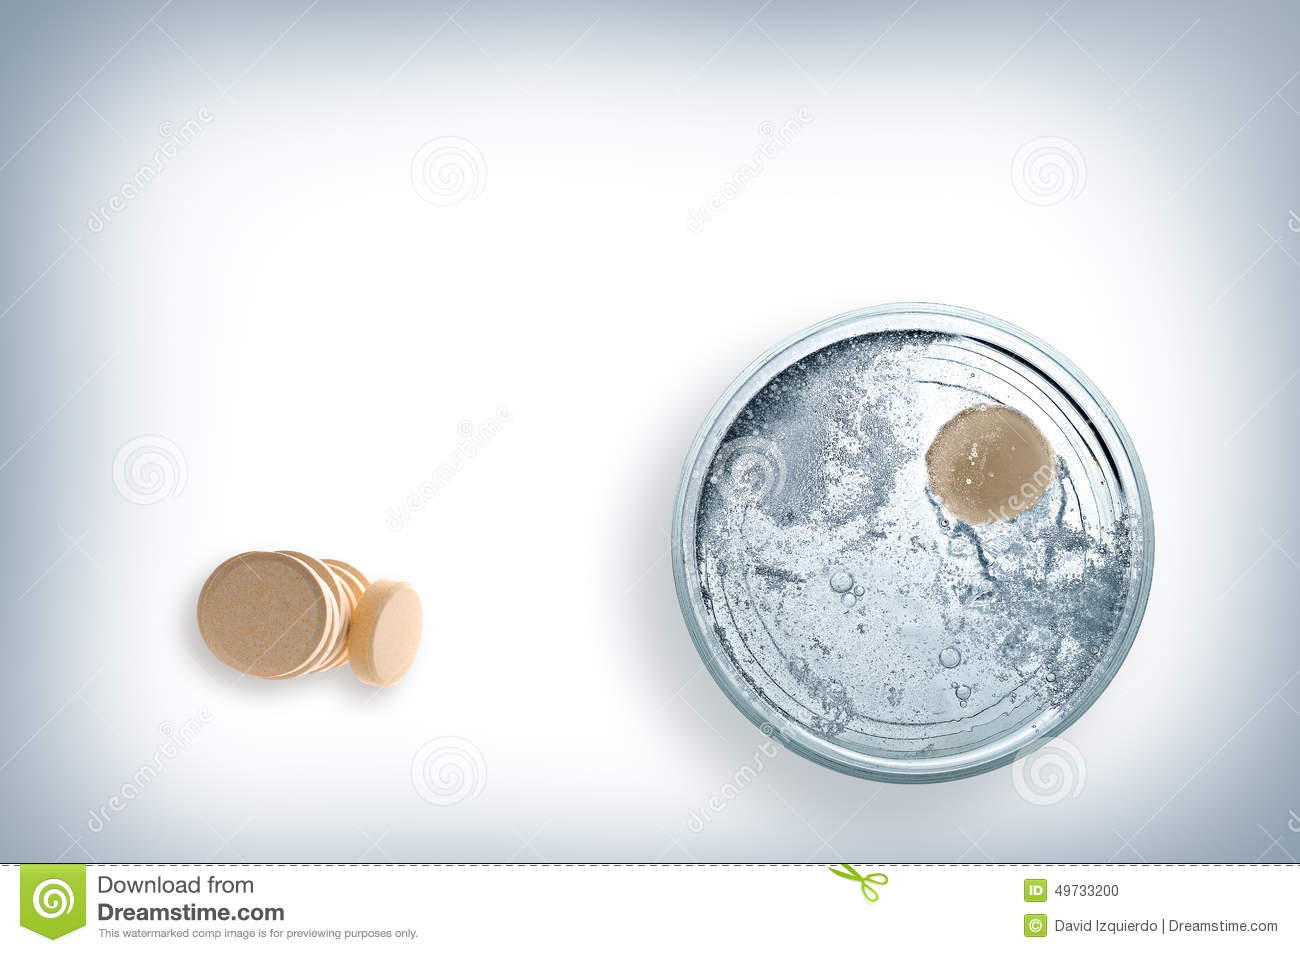glass of water: (727, 363, 1130, 773)
